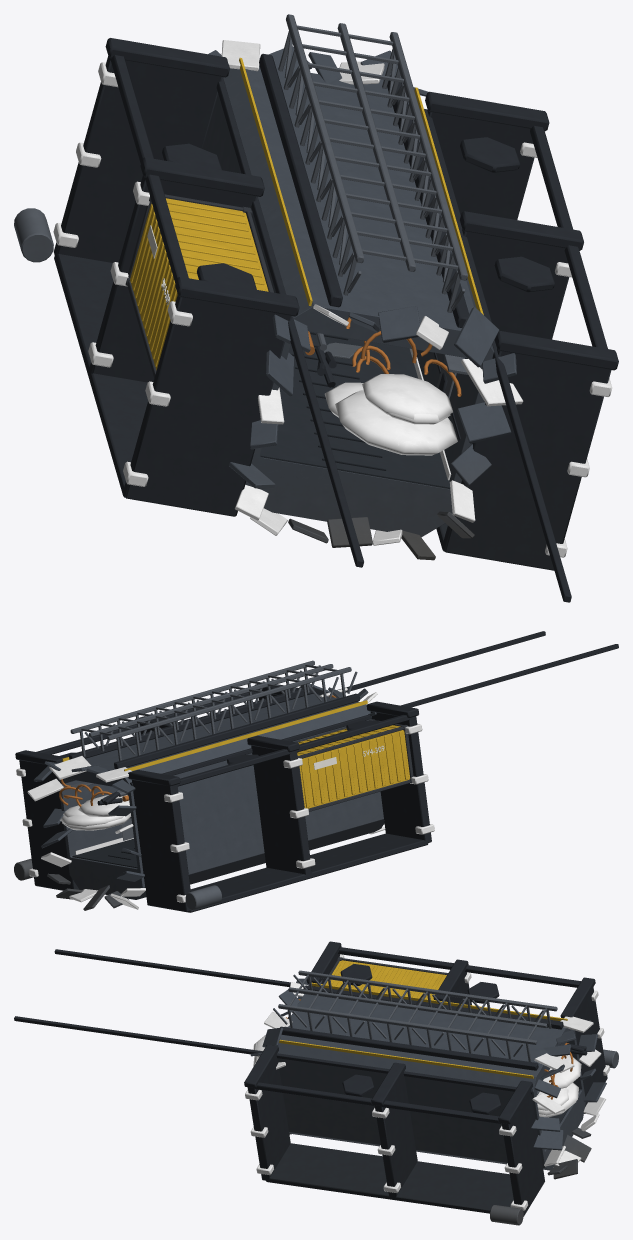
The model's file is sv04_spine_b.glb.
3 views of the same model, one above another, from view 1: azimuth 30°, elevation 25°; view 2: azimuth 150°, elevation 25°; view 3: azimuth 270°, elevation 25° (orthographic). The views are drawn at different scales.
Visible parts, largest first — view 1: sv04_spine_b; view 2: sv04_spine_b; view 3: sv04_spine_b.
Boxes of the visible parts, x1,y1,x2,y2 form: sv04_spine_b: (14, 14, 618, 602); sv04_spine_b: (14, 631, 618, 912); sv04_spine_b: (14, 941, 618, 1225).
Size of what is drawn, in the model's own units: 17.45 by 9.21 by 28.15.
Materials: 24 (22 with a texture image).
